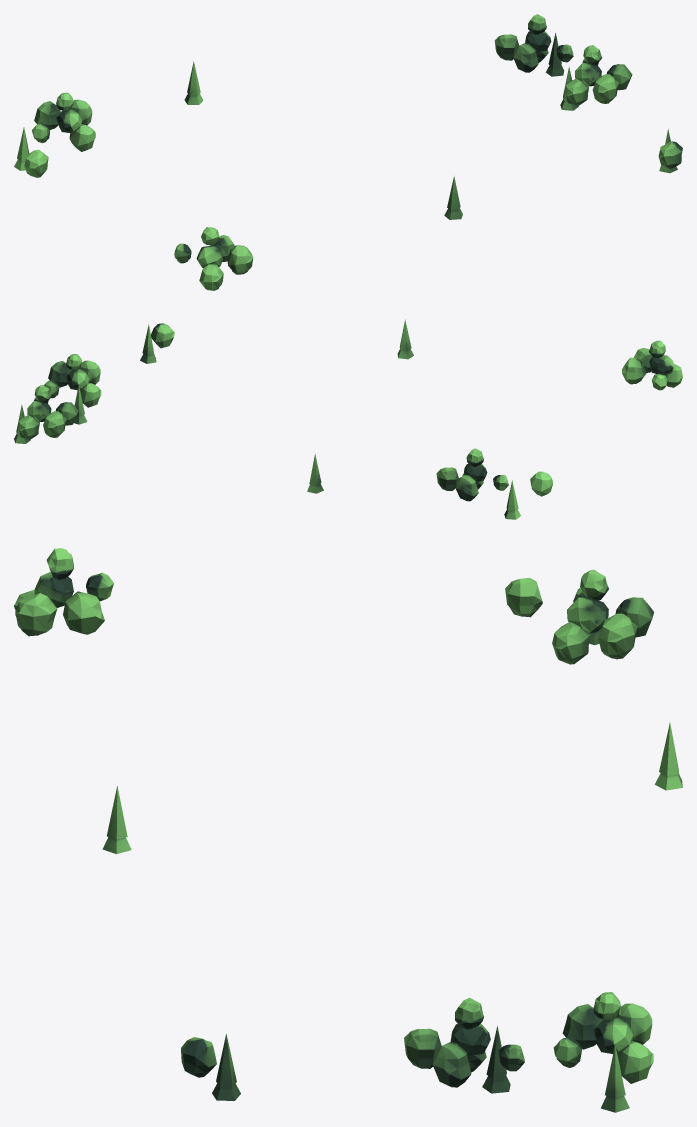
The model's file is Wood_04.FBX.
3 renders of one model, top to bottom at view 1: azimuth 30°, elevation 25°; view 2: azimuth 150°, elevation 25°; view 3: azimuth 270°, elevation 25°, orthographic. The views are drawn at different scales.
Parts seen in each view (by area): view 1: Wood_04; view 2: Wood_04; view 3: Wood_04.
Boxes of the visible parts, x1=… form: Wood_04: x1=14, y1=14, x2=682, y2=290; Wood_04: x1=14, y1=319, x2=682, y2=519; Wood_04: x1=14, y1=548, x2=682, y2=1112.
Size of the model in its own units: 38.06 by 6.64 by 24.74.
